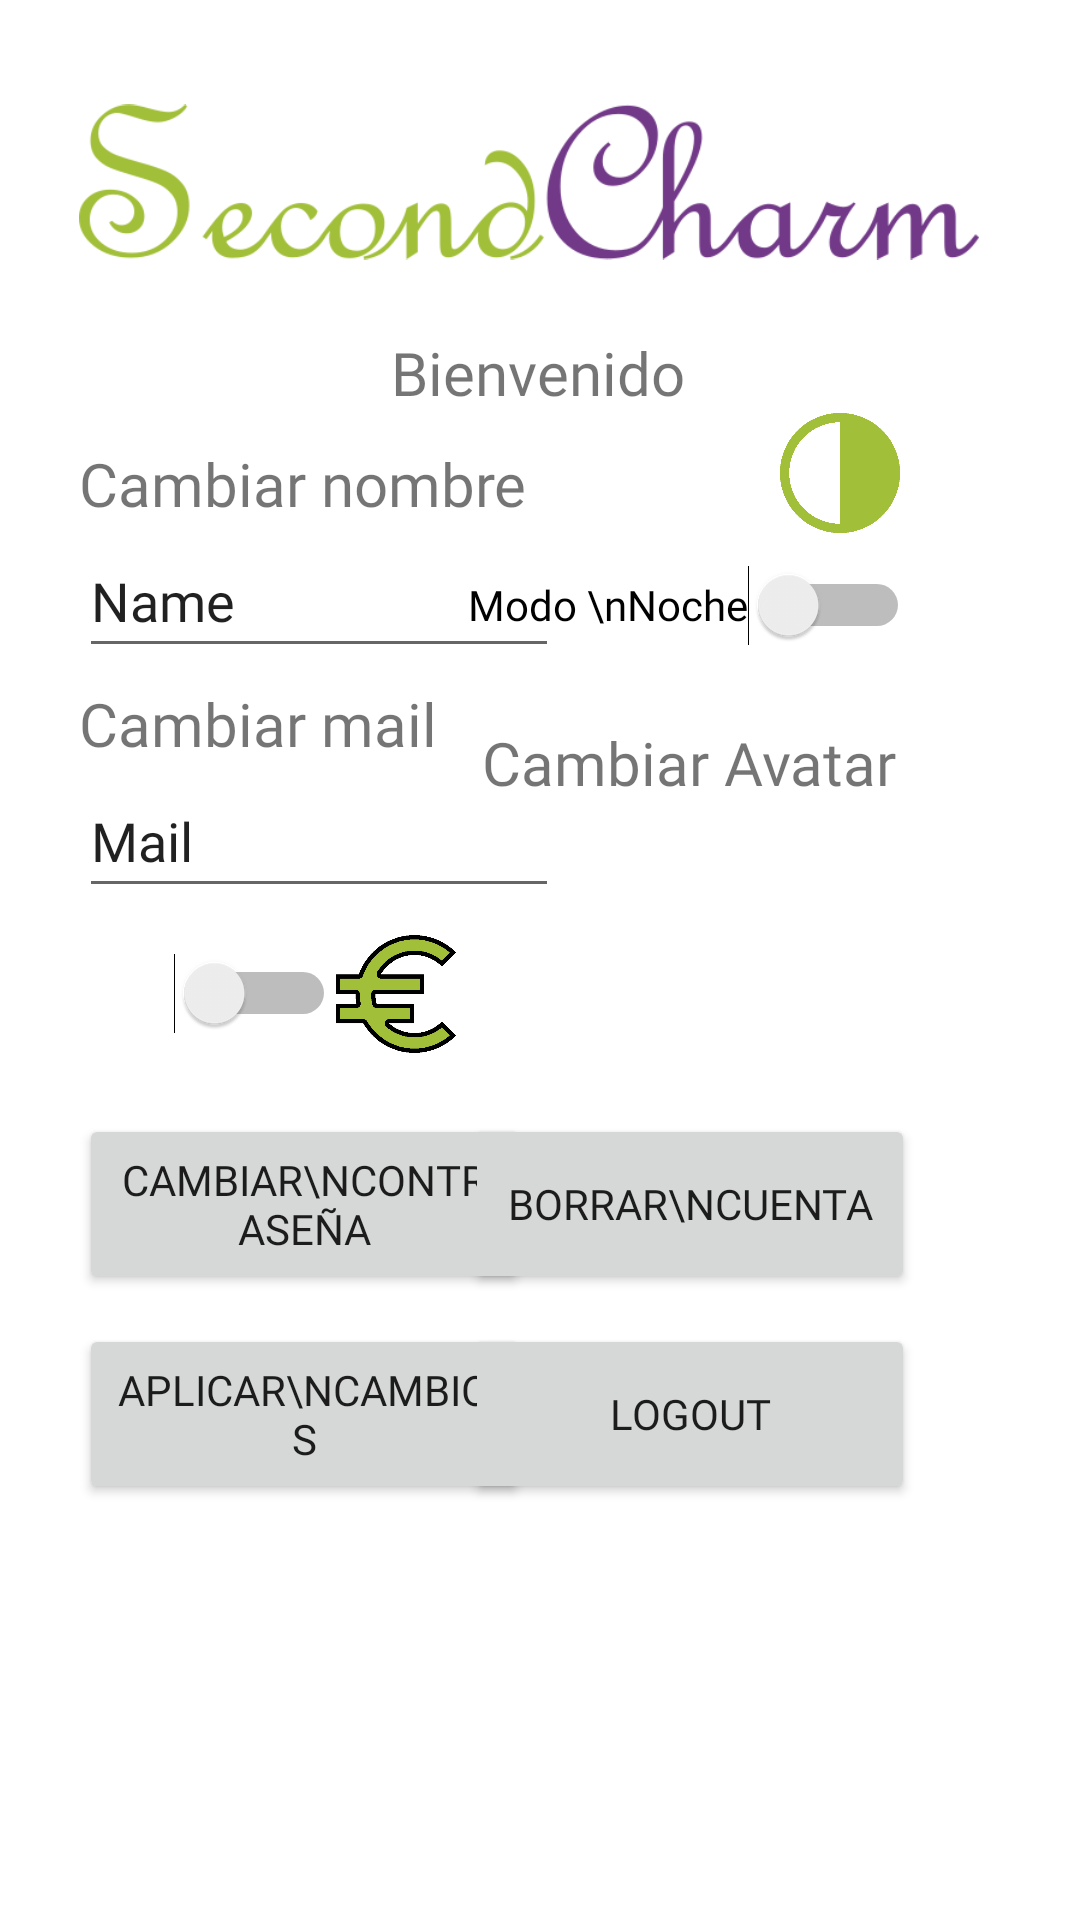

Named icons in this screenshot (1080 × 1920) and their bounding boxes, (x1, y1, x2, y2):
euro sc: (336, 935, 456, 1053)
modo noche verde: (780, 413, 900, 533)
